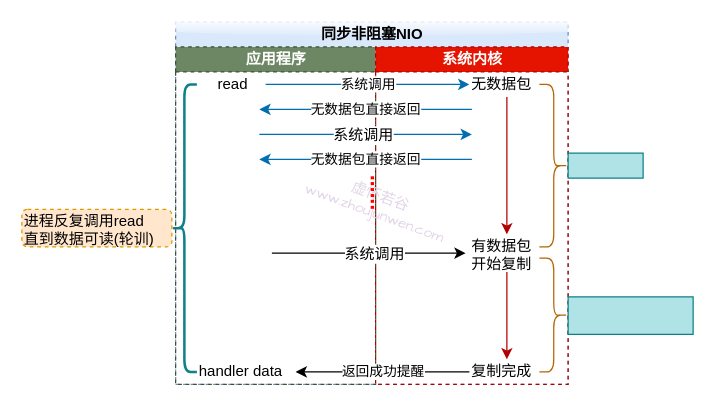
The diagram is 715 pixels wide and 406 high, and some of its shapes have lost their labels. The shapes that lost their labels are listed below. From the top down, each one's centre as x and y in pixels, then its label:
At point (605, 165): "等待数据".
At point (630, 315): "将数据从内核 复制到用户空间".
